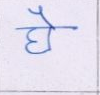ai_matra: (28, 6, 56, 26)
